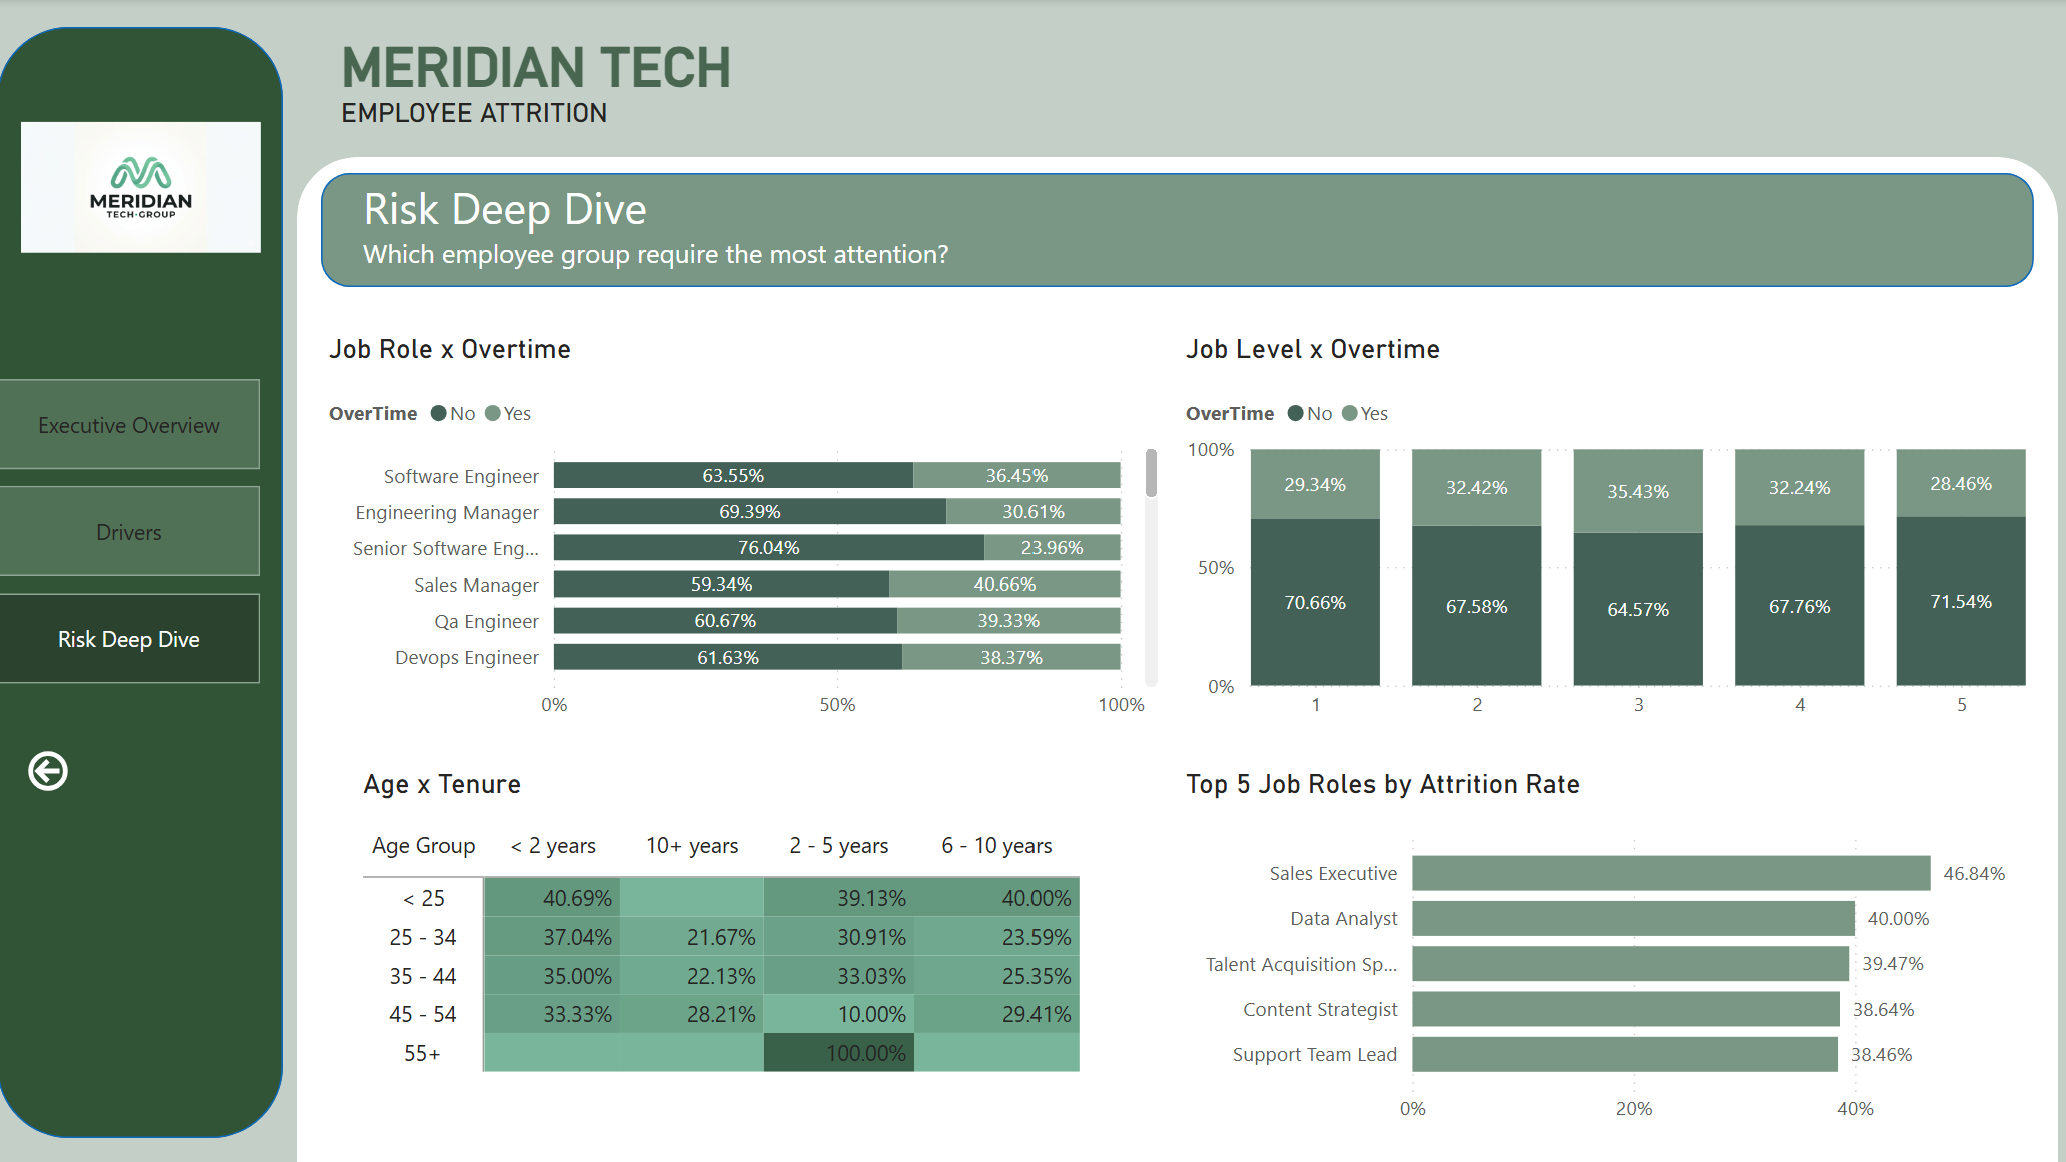

This screenshot's page, from the dashboard's own definition file:
{"tool":"powerbi","page":{"name":"Risk Deep Dive","canvas":[1280,720],"ordinal":2},"visuals":[{"type":"shape","box":[0,17.3,177,687],"z":0},{"type":"image","box":[14.9,70.6,148.5,91.6],"z":1000},{"type":"pageNavigator","box":[0,235.2,163.4,190.6],"z":2000},{"type":"shape","box":[185.7,97.3,1089.4,622.7],"z":3000},{"type":"textbox","box":[208,17.3,261.2,70.6],"z":4000},{"type":"shape","box":[200.5,107.7,1059.7,70.6],"z":5000},{"type":"textbox","box":[221.6,105.2,429.6,73],"z":6000},{"type":"hundredPercentStackedBarChart","title":"Job Role x Overtime","fields":{"Category":["meridian_tech employee_attrition_clean.JobRole"],"Y":["CountNonNull(meridian_tech employee_attrition_clean.OverTime)"],"Series":["meridian_tech employee_attrition_clean.OverTime"]},"box":[200.5,206.7,522.4,247.6],"z":7000},{"type":"hundredPercentStackedColumnChart","title":"Job Level x Overtime","fields":{"Category":["meridian_tech employee_attrition_clean.JobLevel"],"Y":["CountNonNull(meridian_tech employee_attrition_clean.OverTime)"],"Series":["meridian_tech employee_attrition_clean.OverTime"]},"box":[730.4,206.7,529.8,247.6],"z":8000},{"type":"pivotTable","title":"Age x Tenure","fields":{"Rows":["meridian_tech employee_attrition_clean.Age Group"],"Columns":["meridian_tech employee_attrition_clean.Tenure Group"],"Values":["meridian_tech employee_attrition_clean.Attrition Rate"]},"box":[221.6,475.4,455.6,229],"z":9000},{"type":"clusteredBarChart","title":"Top 5 Job Roles by Attrition Rate","fields":{"Category":["meridian_tech employee_attrition_clean.JobRole"],"Y":["meridian_tech employee_attrition_clean.Attrition Rate"]},"box":[730.4,475.4,529.8,229],"z":9001},{"type":"actionButton","box":[14.9,460.5,35.9,33.4],"z":9002}]}

Visuals, with their boxes in screenshot pixels (x1, y1, x2, y2), scaled from the page's 1280x720 canvas onto the 2066x1162 screenshot:
shape: bbox=(0, 28, 286, 1137)
image: bbox=(24, 114, 264, 262)
pageNavigator: bbox=(0, 380, 264, 687)
shape: bbox=(300, 157, 2058, 1161)
textbox: bbox=(336, 28, 757, 142)
shape: bbox=(324, 174, 2034, 288)
textbox: bbox=(358, 170, 1051, 288)
"Job Role x Overtime" hundredPercentStackedBarChart: bbox=(324, 334, 1167, 733)
"Job Level x Overtime" hundredPercentStackedColumnChart: bbox=(1179, 334, 2034, 733)
"Age x Tenure" pivotTable: bbox=(358, 767, 1093, 1137)
"Top 5 Job Roles by Attrition Rate" clusteredBarChart: bbox=(1179, 767, 2034, 1137)
actionButton: bbox=(24, 743, 82, 797)
